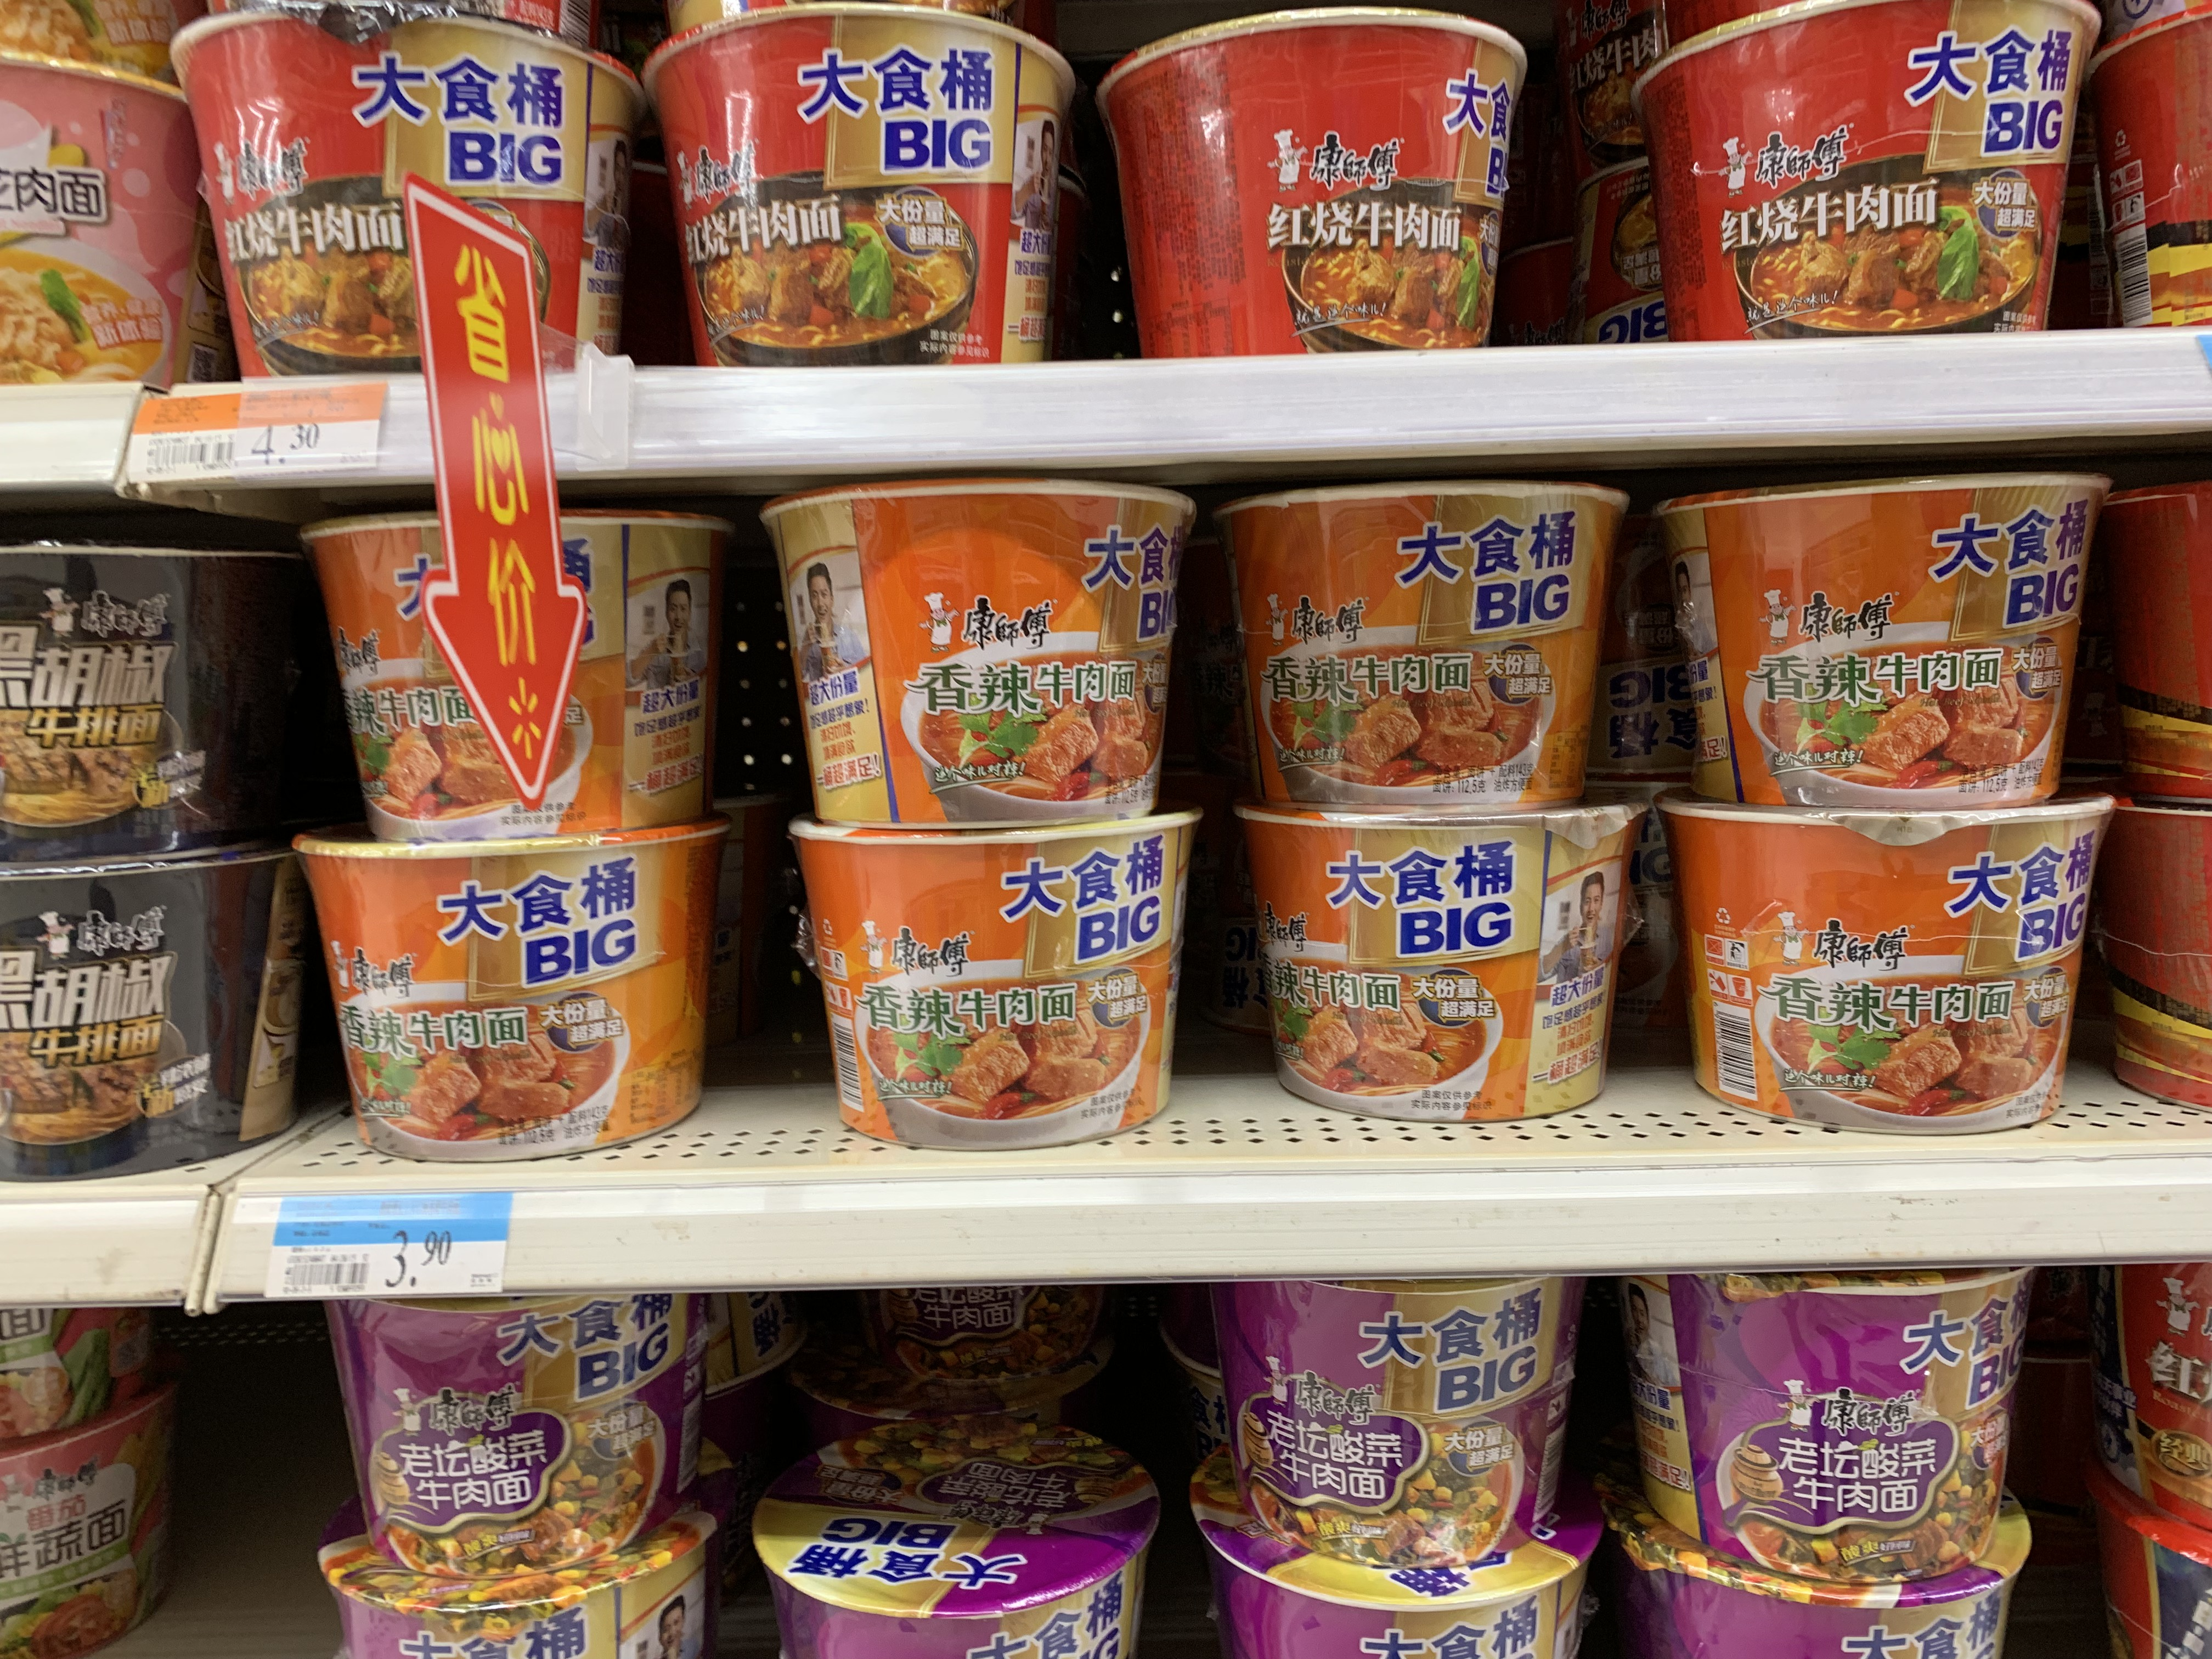xiangla: (756, 472, 1200, 835), (1649, 472, 2116, 812), (294, 512, 737, 843), (1667, 812, 2116, 1138), (286, 842, 733, 1166), (782, 826, 1211, 1154), (1216, 483, 1632, 817), (1231, 812, 1648, 1126)
